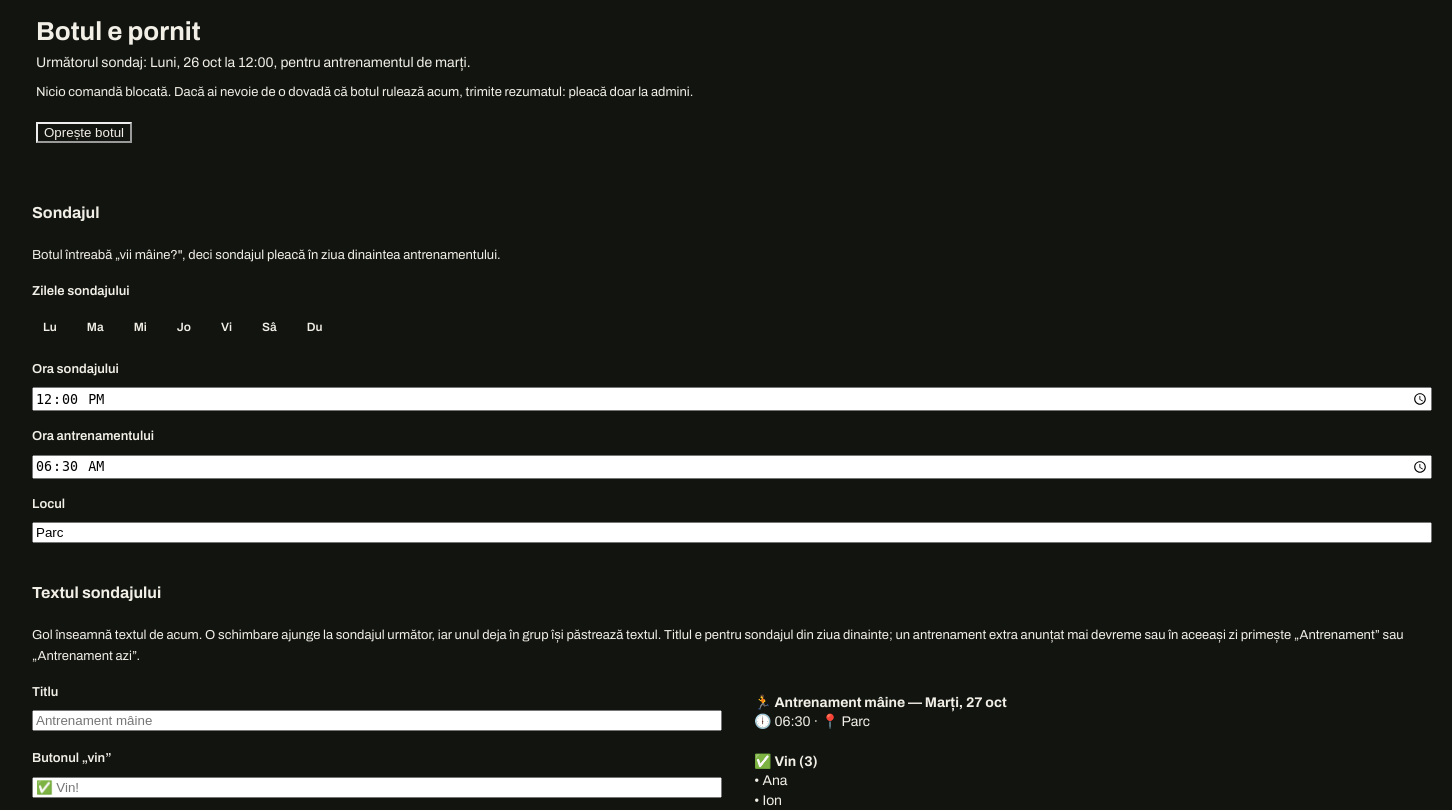
Test: Botul de Telegram › o oră invalidă blochează salvarea și spune de ce
Expected: the text "Textul sondajului" is shown, x1=24 y1=581 x2=169 y2=605
Clear the field labelled "Locul": coordinates (732, 533) x1=32 y1=522 x2=1432 y2=543
(page scrolled)
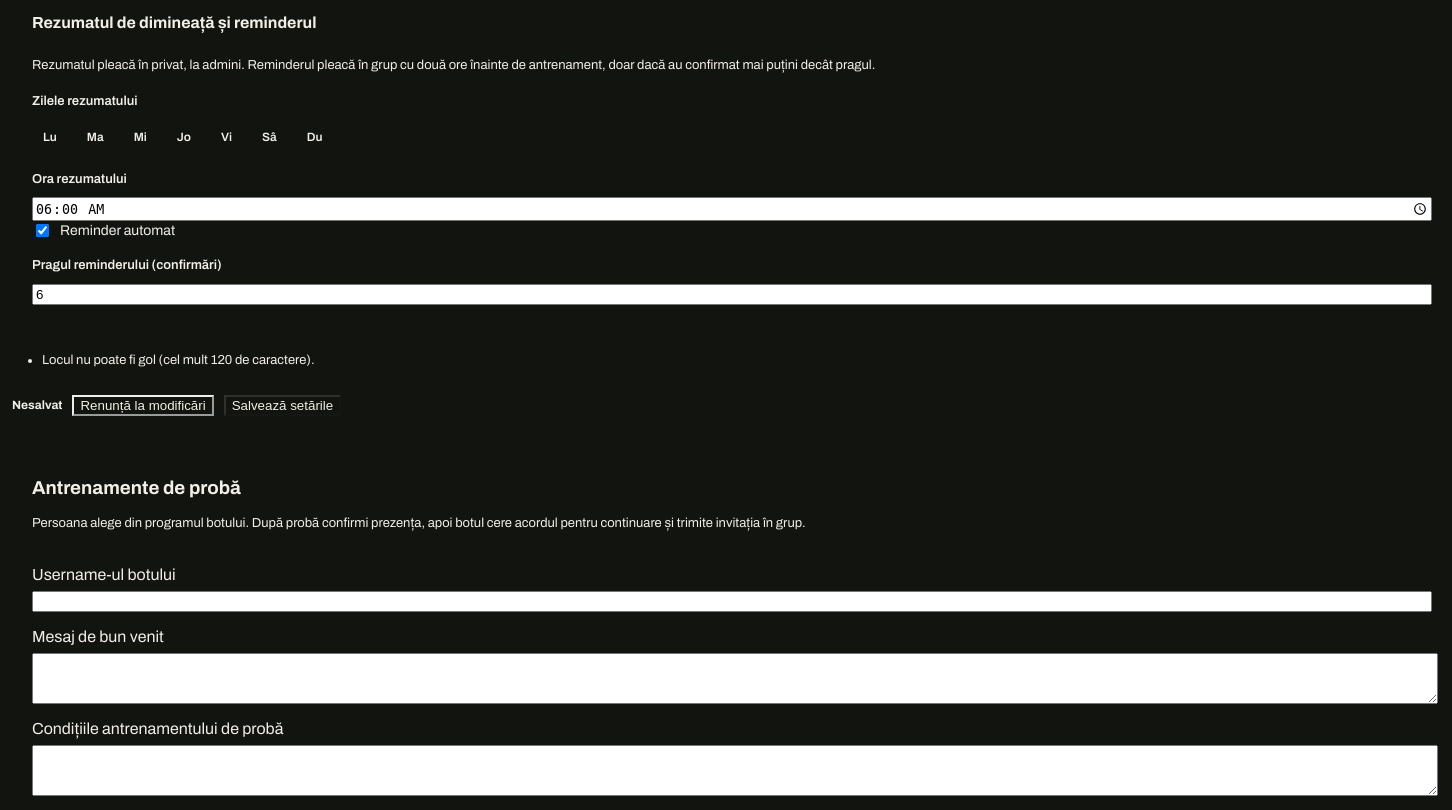
Expected: the button "Salvează setările" is disabled, x1=224 y1=395 x2=341 y2=416
Result: the message shows "Locul nu poate fi gol" at x1=42 y1=353 x2=315 y2=367
